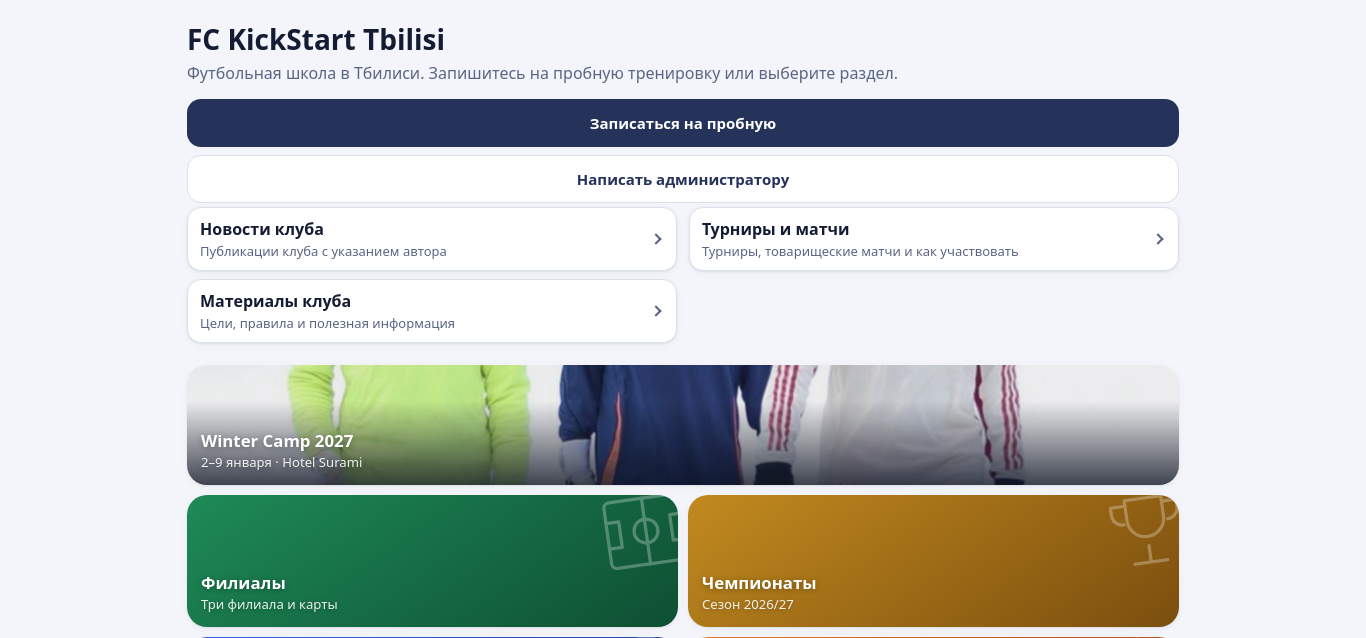
Test: «О клубе» для гостя › раздел «Филиалы» и возврат назад
Click the button "Филиалы Три филиала и карты".
click(243, 582)  # box [187,495,678,627]
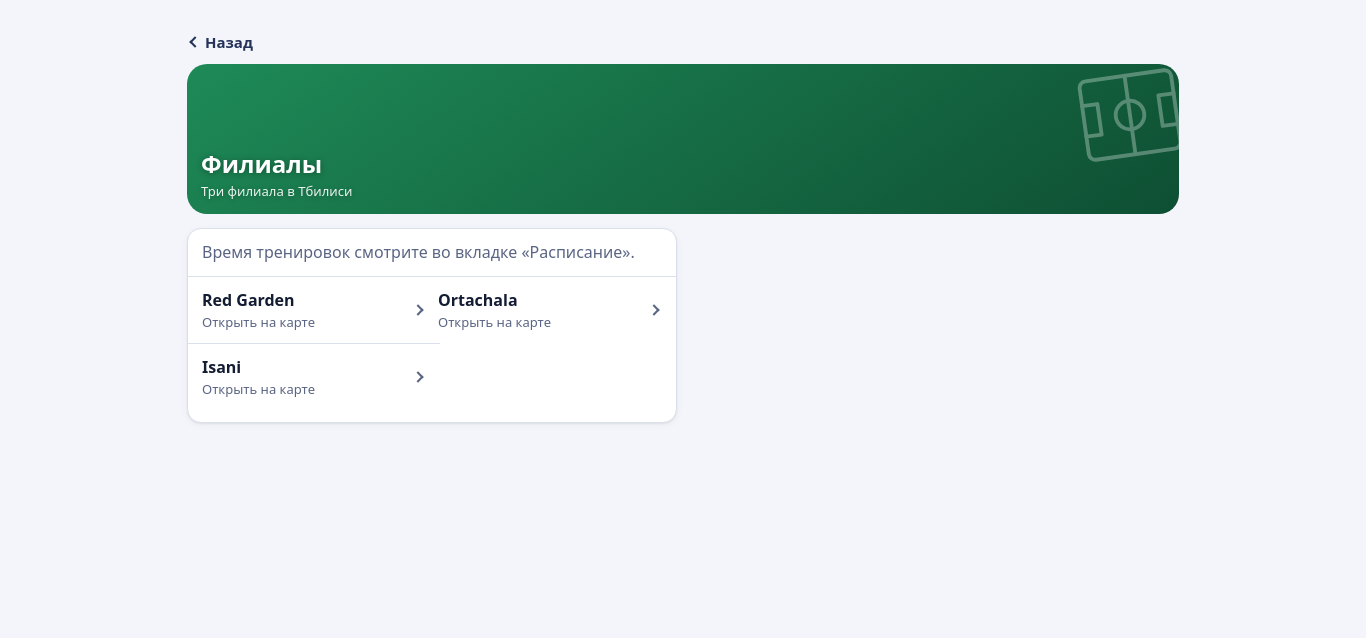
Check: the heading "Филиалы" is shown, box [201,147,322,180]
Check: the text "Red Garden" is shown, box [202,289,295,311]
Check: the number of links "Red Garden Открыть на карте" is 3, box [188,276,440,343]; [424,276,676,343]; [188,343,440,410]
Click the button "Назад".
click(229, 42)  # box [187,20,1179,64]
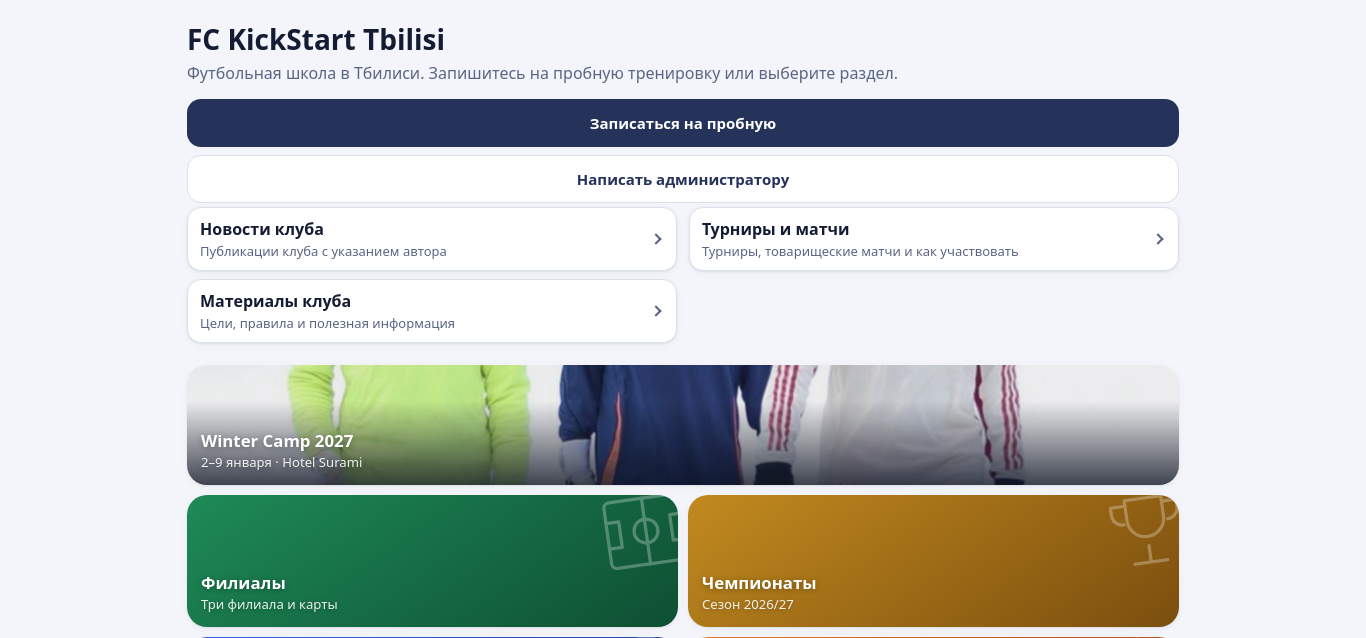
Check: the button "Филиалы Три филиала и карты" is shown, box [187,495,678,627]
